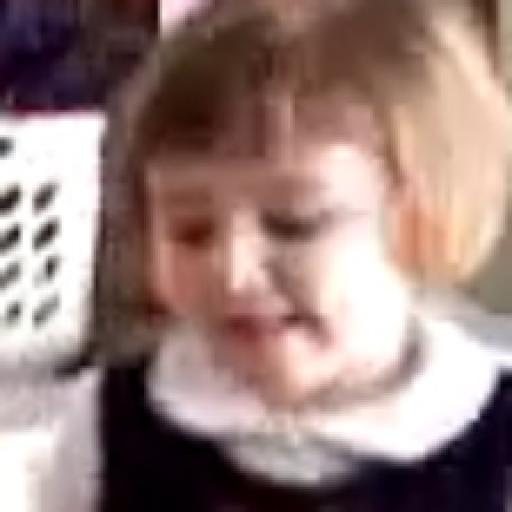Autism: (142, 13, 495, 447)
